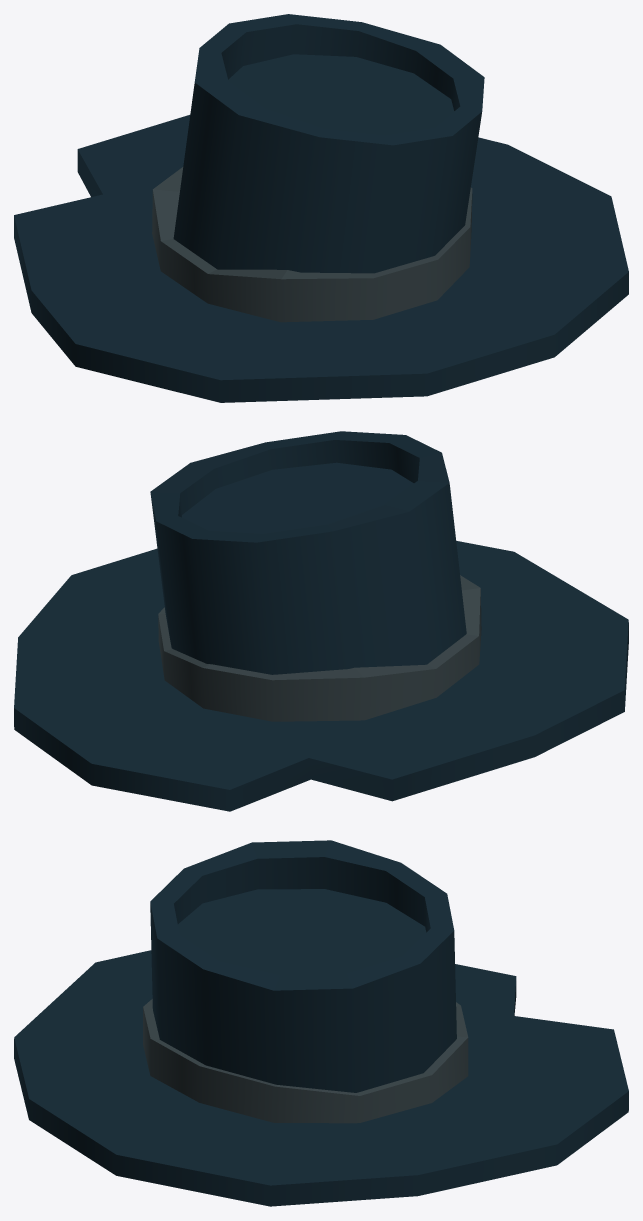
Rendered from chapeu_base_amassado.fbx.
3 views of the same model, one above another, from view 1: azimuth 30°, elevation 25°; view 2: azimuth 150°, elevation 25°; view 3: azimuth 270°, elevation 25° (orthographic). The views are drawn at different scales.
Visible parts, largest first — view 1: chapeu_base_amassado; view 2: chapeu_base_amassado; view 3: chapeu_base_amassado.
Part boxes in pixels (x1,y1,x2,y2): chapeu_base_amassado: (14,14,628,402); chapeu_base_amassado: (14,431,628,811); chapeu_base_amassado: (14,840,628,1206).
Bounding box in the file's own units: 51.8 × 18.63 × 53.4.
